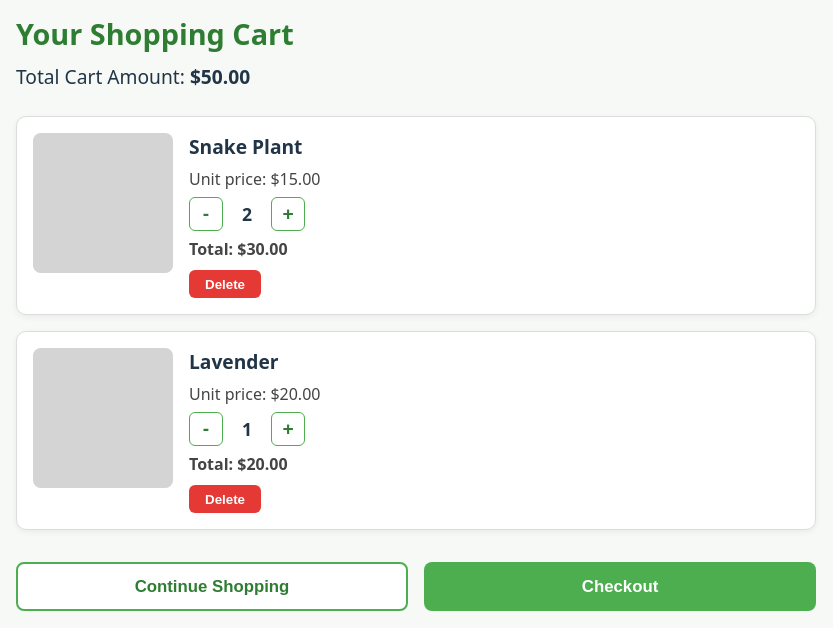
it: CartItem › removes the item when decrementing from quantity 1
The width and height of the screenshot is (833, 628).
Click the button named "Decrease quantity of Lavender": x=206, y=429 left=189, top=412, right=223, bottom=446
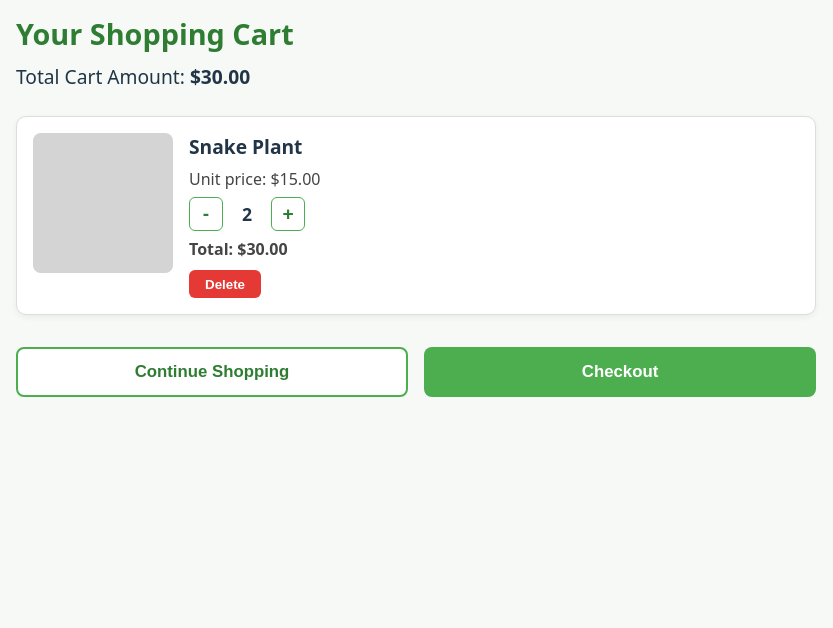
Expected: the list item with test id "cart-item-lavender" is gone
Expected: the element with test id "cart-total" shows "$30.00", left=190, top=63, right=250, bottom=90
